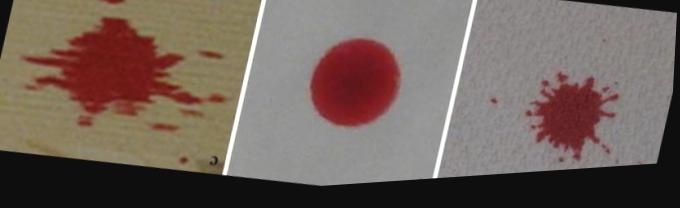Fire: (23, 18, 204, 119), (525, 80, 620, 171), (310, 44, 401, 134)
